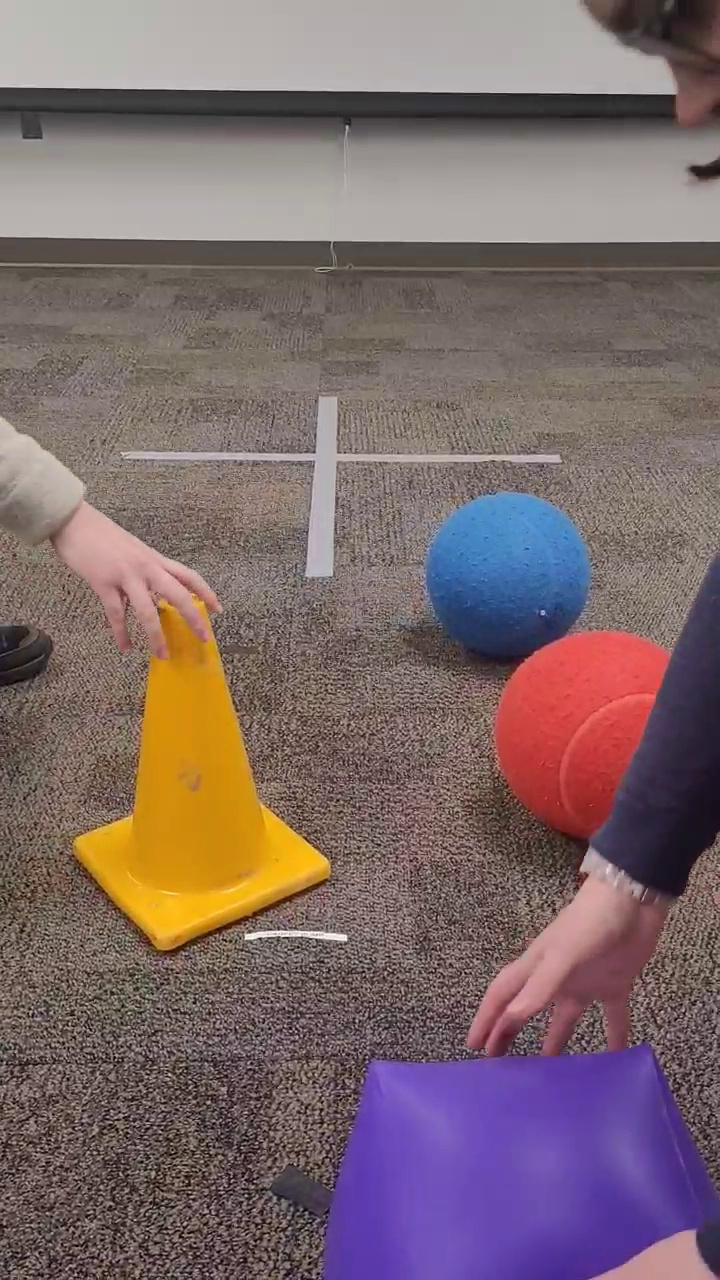ball: (486, 626, 720, 847), (424, 487, 593, 664)
cone: (64, 582, 338, 963)
cube: (320, 1039, 720, 1278)
face: (574, 2, 718, 200)
hand: (457, 538, 720, 1056), (1, 409, 227, 664), (579, 1223, 720, 1279)
